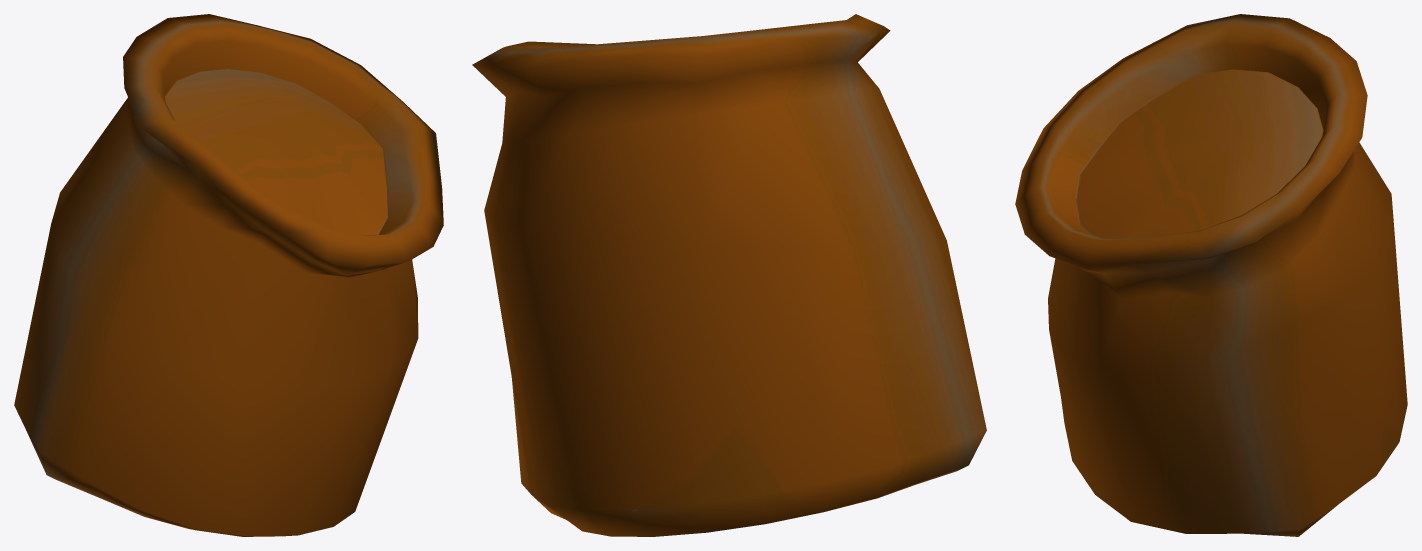
Rendered from Coffee_Sack.fbx.
3 renders of one model, left to right at view 1: azimuth 30°, elevation 25°; view 2: azimuth 150°, elevation 25°; view 3: azimuth 270°, elevation 25°, orthographic. The views are drawn at different scales.
Visible parts, largest first — view 1: node_id4; view 2: node_id4; view 3: node_id4.
Part boxes in pixels (bbox=[...]): node_id4: bbox=[14, 14, 443, 536]; node_id4: bbox=[472, 14, 986, 536]; node_id4: bbox=[1015, 14, 1407, 536].
Size of the model in its own units: 0.556 by 0.5851 by 0.4758.
1 material, 1 textured.
